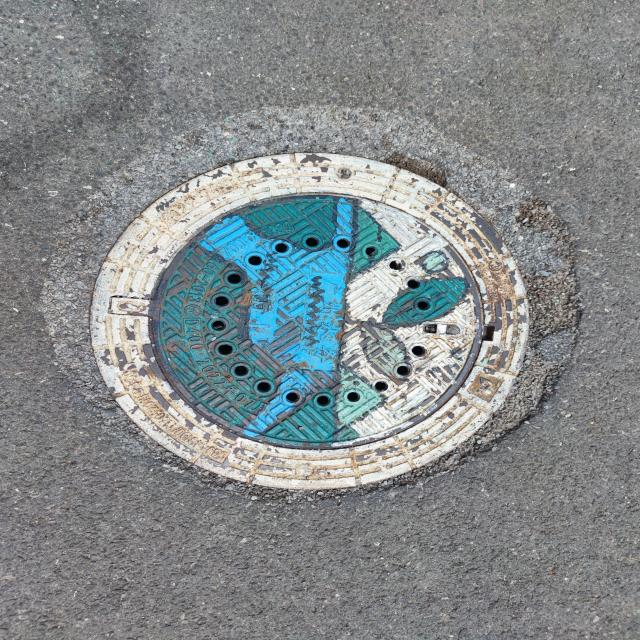Good: (86, 154, 544, 503)
